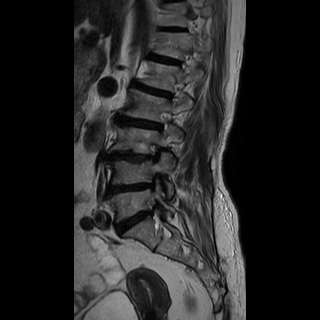RFS1: (152, 106, 177, 137)
RFS3: (141, 140, 164, 168)
